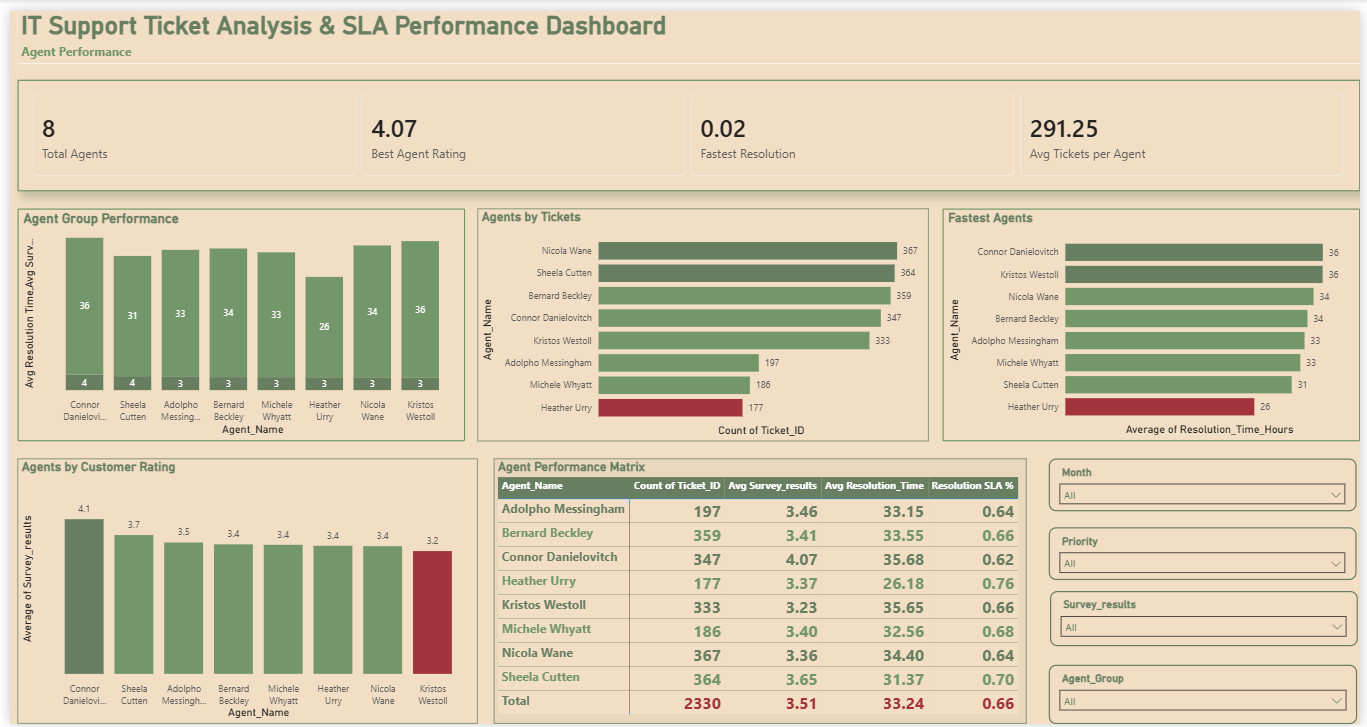

What the dashboard file says about the page in this screenshot:
{"tool":"powerbi","page":{"name":"Agent Performance","canvas":[1800,950],"ordinal":2},"visuals":[{"type":"textbox","title":"IT Support Ticket Analysis & SLA Performance Dashboard","box":[9.8,0,1790.5,70.3],"z":0},{"type":"cardVisual","fields":{"Data":["Measures (2).Total Agents","Measures (2).Best Agent Rating","Measures (2).Fastest Resolution","Measures (2).Avg Tickets per Agent"]},"box":[9.8,91.6,1790.5,148.8],"z":1000},{"type":"columnChart","title":"Agent Group Performance","fields":{"Category":["Technical_support_dataset.Agent_Name"],"Y":["Avg(Technical_support_dataset.Survey_results)","Avg(Technical_support_dataset.Resolution_Time_Hours)"]},"box":[10,263.3,596.7,310],"z":2000},{"type":"clusteredBarChart","title":" Fastest Agents","fields":{"Category":["Technical_support_dataset.Agent_Name"],"Y":["Avg(Technical_support_dataset.Resolution_Time_Hours)"]},"box":[1243.3,263.3,556.7,310],"z":3000},{"type":"columnChart","title":"Agents by Customer Rating","fields":{"Category":["Technical_support_dataset.Agent_Name"],"Y":["Avg(Technical_support_dataset.Survey_results)"]},"box":[10,596.7,613.3,353.3],"z":4000},{"type":"clusteredBarChart","title":"Agents by Tickets","fields":{"Category":["Technical_support_dataset.Agent_Name"],"Y":["CountNonNull(Technical_support_dataset.Ticket_ID)"]},"box":[623.3,263.3,601.7,310],"z":5000},{"type":"slicer","fields":{"Values":["Technical_support_dataset.Month"]},"box":[1385,596.7,410,70],"z":6000},{"type":"slicer","fields":{"Values":["Technical_support_dataset.Priority"]},"box":[1385,688.3,410,70],"z":7000},{"type":"slicer","fields":{"Values":["Technical_support_dataset.Survey_results"]},"box":[1386.7,773.3,410,73.3],"z":8000},{"type":"slicer","fields":{"Values":["Technical_support_dataset.Agent_Group"]},"box":[1384.2,871,411.2,79.3],"z":9000},{"type":"pivotTable","title":"Agent Performance Matrix    ","fields":{"Values":["CountNonNull(Technical_support_dataset.Ticket_ID)","Avg(Technical_support_dataset.Survey_results)","Avg(Technical_support_dataset.Resolution_Time_Hours)","Measures (2).Resolution SLA %"],"Rows":["Technical_support_dataset.Agent_Name"]},"box":[645,596.7,710,353.3],"z":10000}]}

Visuals, with their boxes in screenshot pixels (x1, y1, x2, y2), scaled from the page's 1800x950 canvas onto the 1367x727 screenshot:
"IT Support Ticket Analysis & SLA Performance Dashboard" textbox: bbox=(7, 0, 1366, 54)
cardVisual - Measures (2).Total Agents x Measures (2).Best Agent Rating: bbox=(7, 70, 1366, 184)
"Agent Group Performance" columnChart: bbox=(8, 201, 461, 439)
" Fastest Agents" clusteredBarChart: bbox=(944, 201, 1366, 439)
"Agents by Customer Rating" columnChart: bbox=(8, 457, 473, 726)
"Agents by Tickets" clusteredBarChart: bbox=(473, 201, 930, 439)
slicer - Technical_support_dataset.Month: bbox=(1052, 457, 1363, 510)
slicer - Technical_support_dataset.Priority: bbox=(1052, 527, 1363, 580)
slicer - Technical_support_dataset.Survey_results: bbox=(1053, 592, 1364, 648)
slicer - Technical_support_dataset.Agent_Group: bbox=(1051, 667, 1364, 726)
"Agent Performance Matrix    " pivotTable: bbox=(490, 457, 1029, 726)
